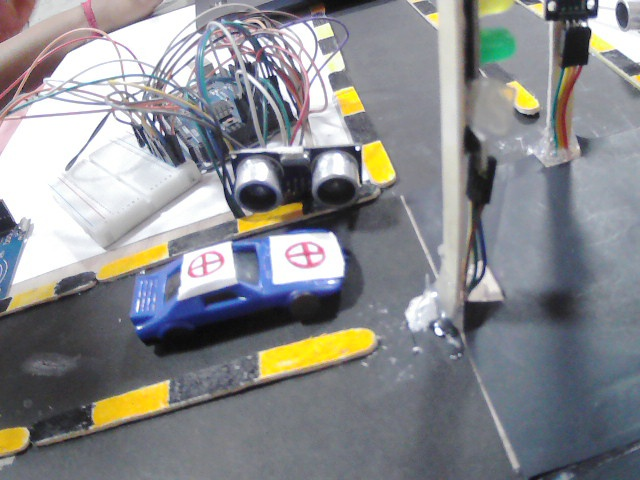emergency_vehicle: (128, 224, 349, 348)
traffic_light: (463, 0, 516, 204)
uno_breadboard: (139, 49, 304, 171), (49, 118, 202, 247), (229, 143, 365, 211), (0, 200, 31, 296), (612, 0, 640, 42)
